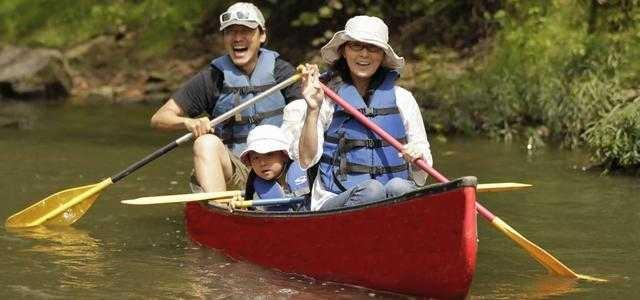kayak: (183, 182, 477, 294)
